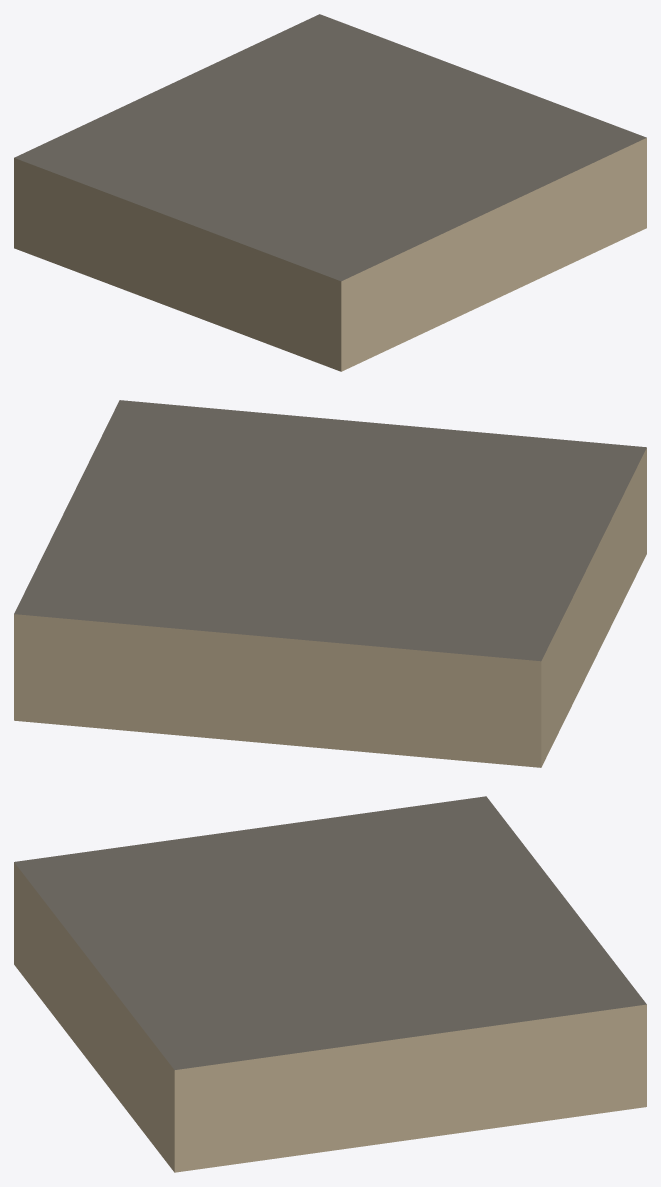
3 renders of one model, top to bottom at view 1: azimuth 30°, elevation 25°; view 2: azimuth 150°, elevation 25°; view 3: azimuth 270°, elevation 25°, orthographic. The views are drawn at different scales.
Visible parts, largest first — view 1: HP-w288650734; view 2: HP-w288650734; view 3: HP-w288650734.
Boxes of the visible parts, x1,y1,x2,y2 form: HP-w288650734: (14,14,646,371); HP-w288650734: (14,400,646,767); HP-w288650734: (14,796,646,1172).
Size of the model in its own units: 75.64 by 13.2 by 73.86.
